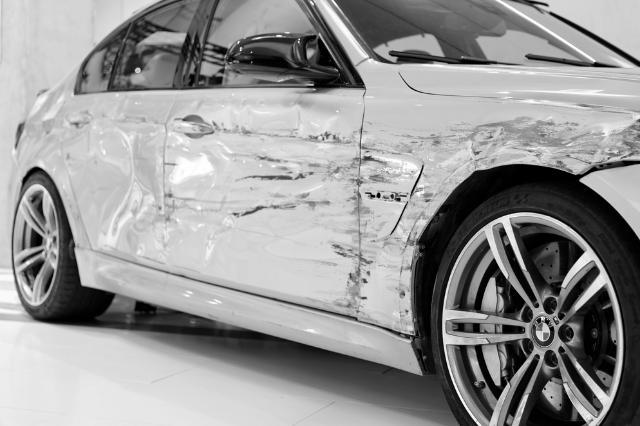Door: (71, 99, 364, 308)
Fender: (372, 102, 637, 212)
